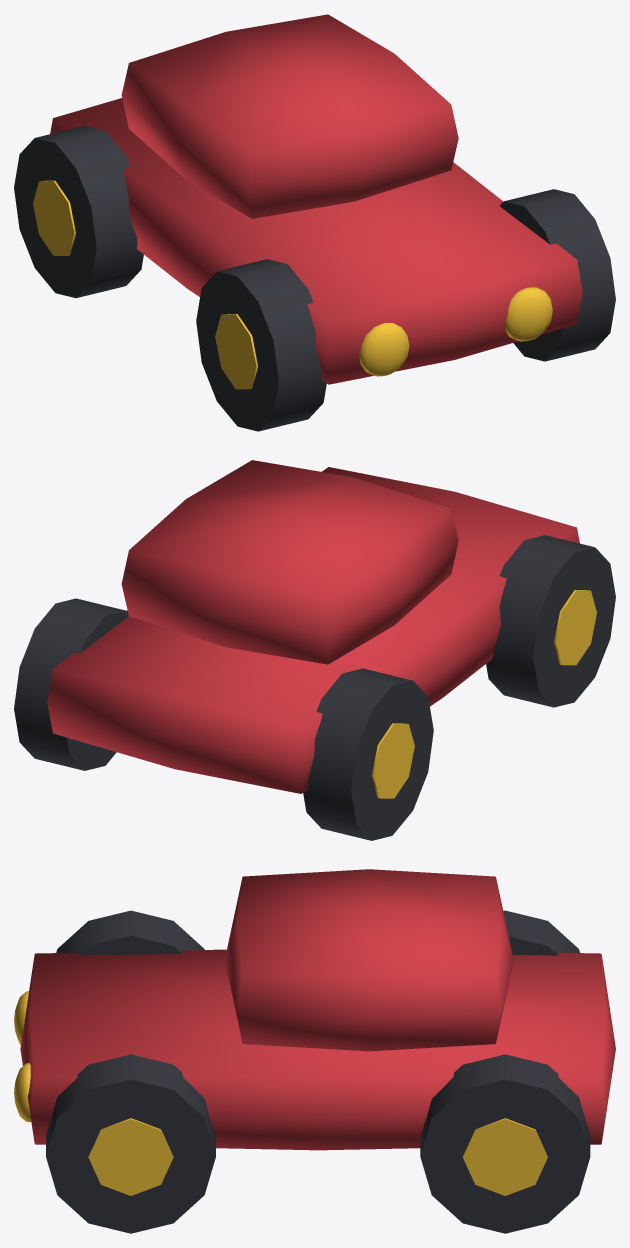
Rendered from toy_car.glb.
3 renders of one model, top to bottom at view 1: azimuth 30°, elevation 25°; view 2: azimuth 150°, elevation 25°; view 3: azimuth 270°, elevation 25°, orthographic. The views are drawn at different scales.
Parts seen in each view (by area): view 1: root; view 2: root; view 3: root.
Boxes of the visible parts, <box> form: root: <box>14,14,615,431</box>; root: <box>14,460,615,840</box>; root: <box>14,869,615,1233</box>.
Bounding box in the file's own units: 0.475 × 0.31 × 0.7075.
